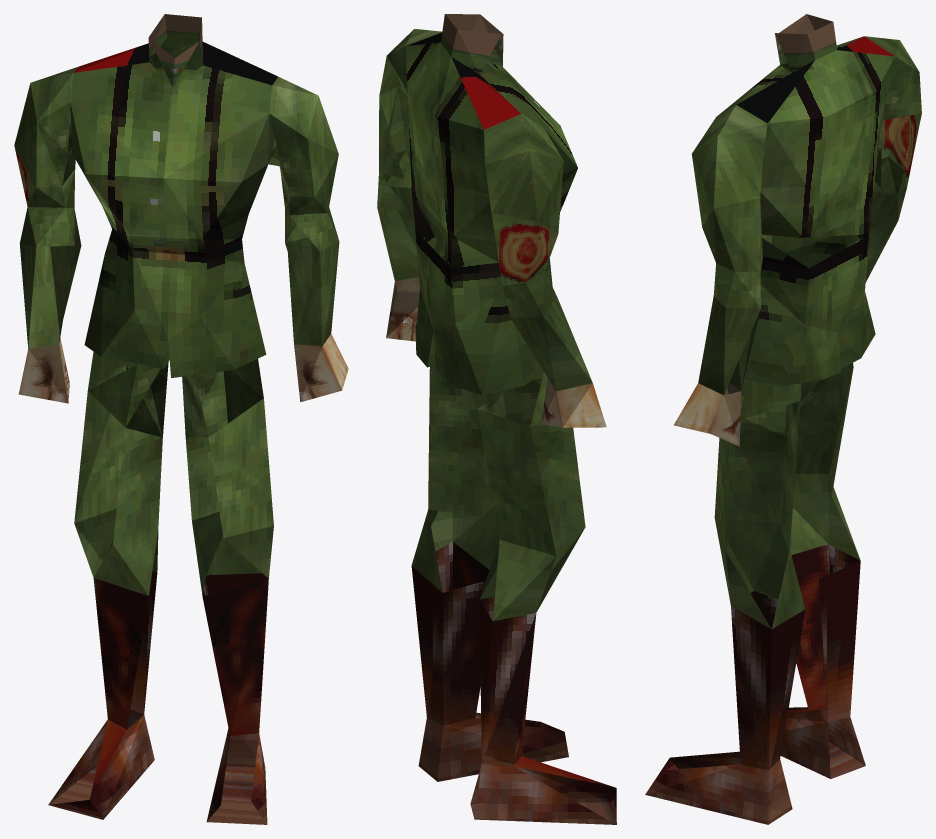
Rendered from primary_008.glb.
3 renders of one model, left to right at view 1: azimuth 30°, elevation 25°; view 2: azimuth 150°, elevation 25°; view 3: azimuth 270°, elevation 25°, orthographic. The views are drawn at different scales.
Visible parts, largest first — view 1: Object; view 2: Object; view 3: Object.
Part boxes in pixels (x1,y1,x2,y2): Object: (14,14,348,824); Object: (377,14,616,824); Object: (645,14,921,824).
Size of the model in its own units: 0.6831 by 1.83 by 0.5957.
64 materials, 64 textured.
